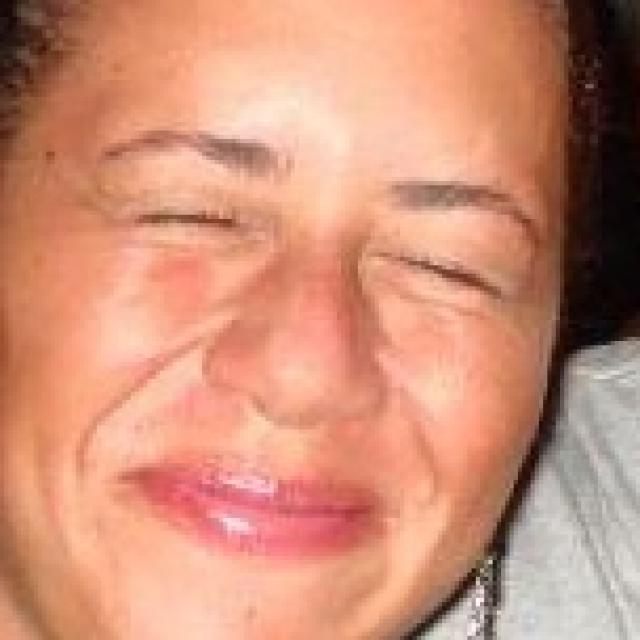close: (371, 154, 528, 328), (100, 121, 272, 256)
